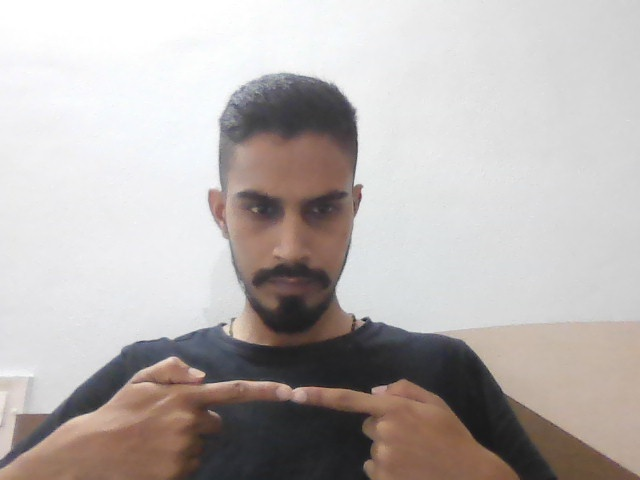Hurt: (109, 355, 504, 479)
